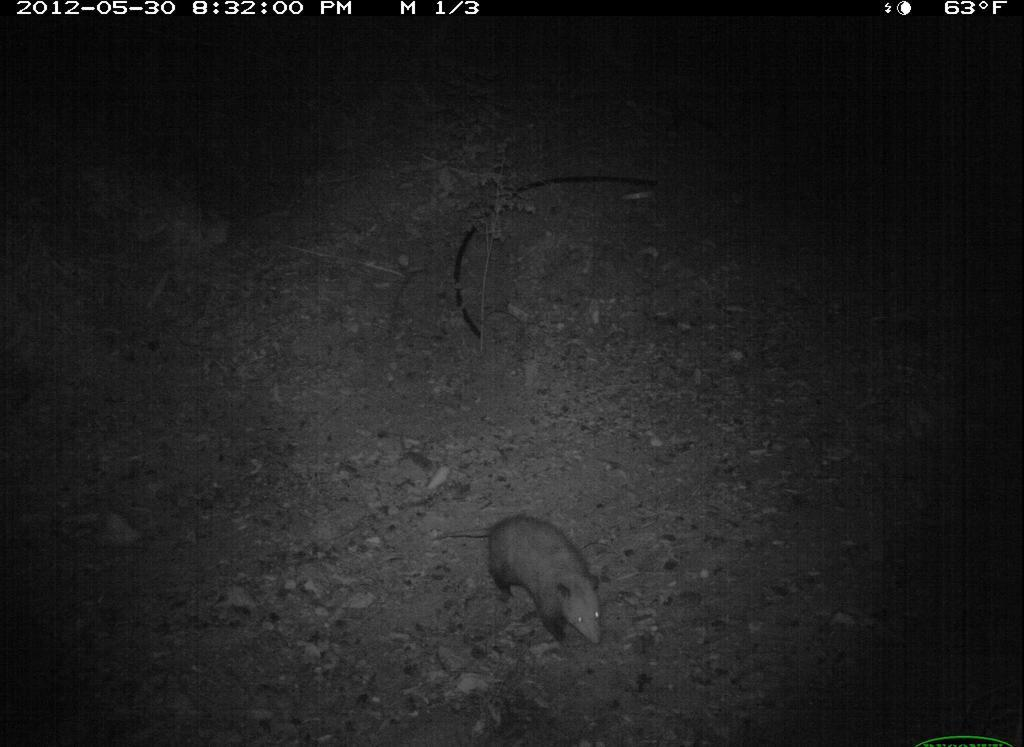opossum: (436, 513, 609, 655)
